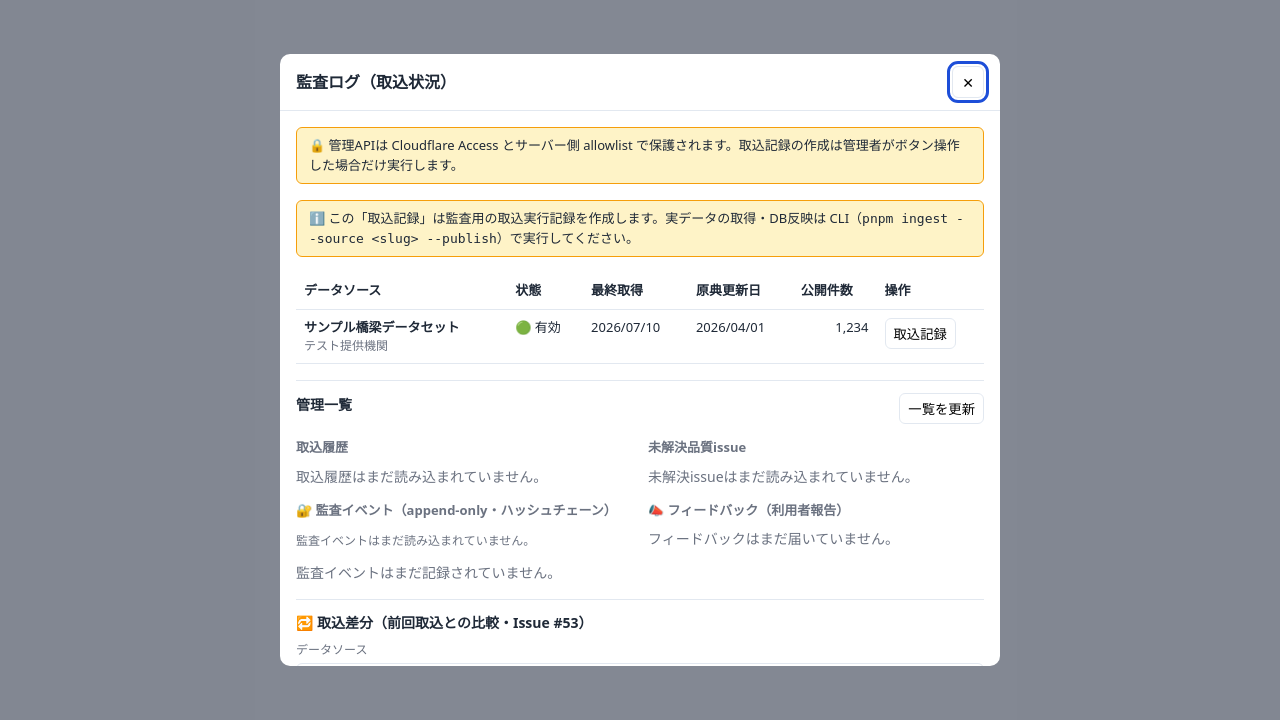
Test: AuditLogDialog › requires a reason before resolving a quality issue
Step 1. Click the button "取込記録" → click(920, 333), box [884,318,956,348]
(page scrolled)
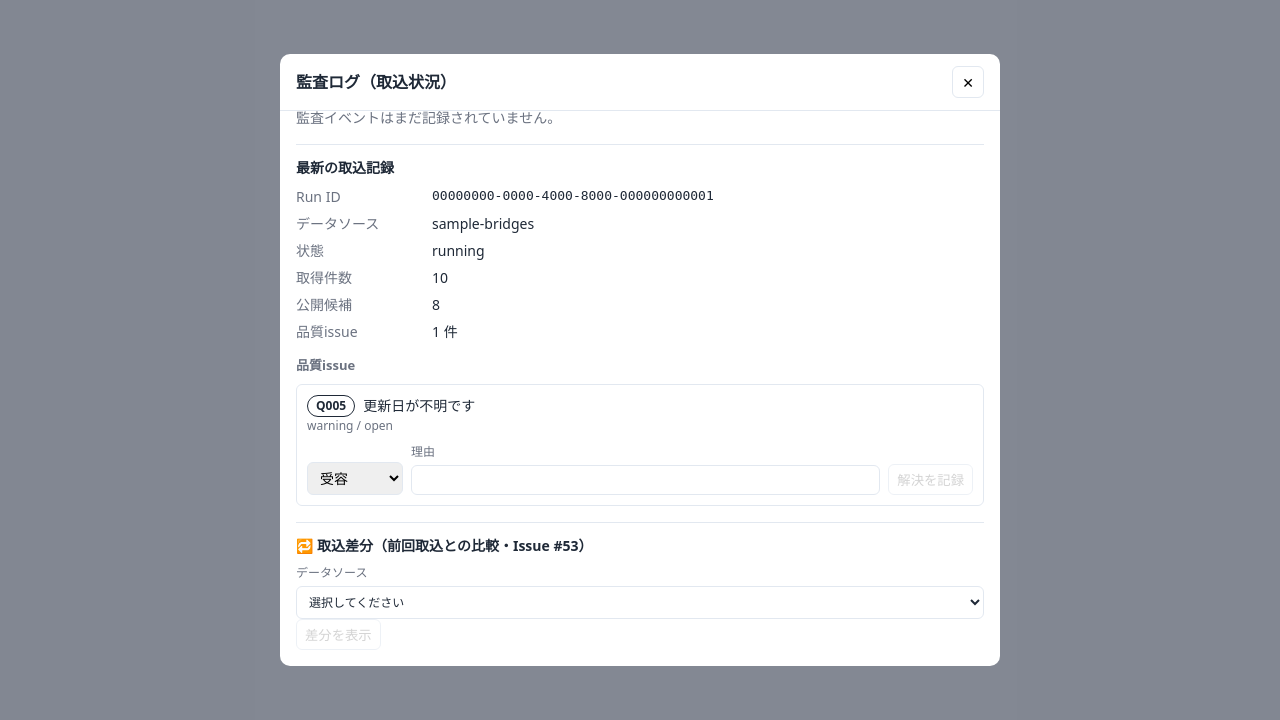
Now the text "更新日が不明です" is shown, box [363,395,475,416]
Now the button "解決を記録" is disabled, box [888,464,973,494]
Step 2. Type "原典で確認済み" into the field labelled "理由" → (646, 480), box [411,464,880,494]
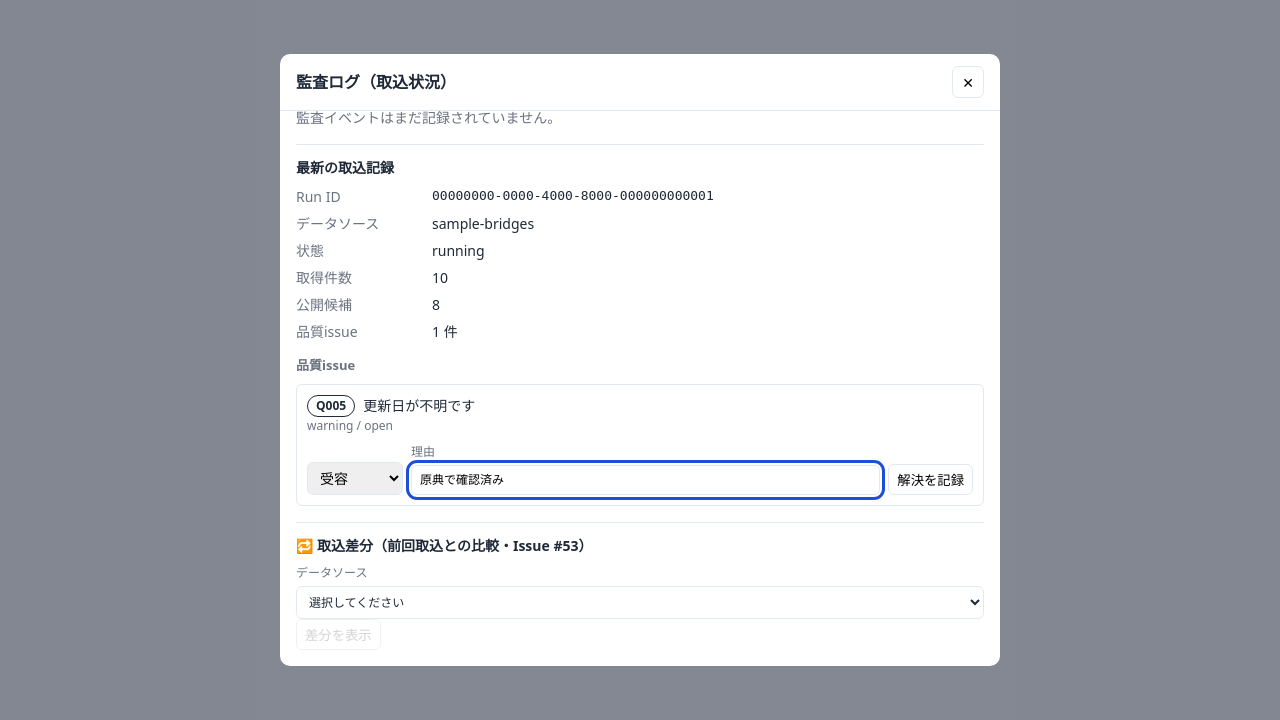
Step 3. Select "受容" in the dropdown named "解決ステータス" → (355, 478), box [307,462,403,494]
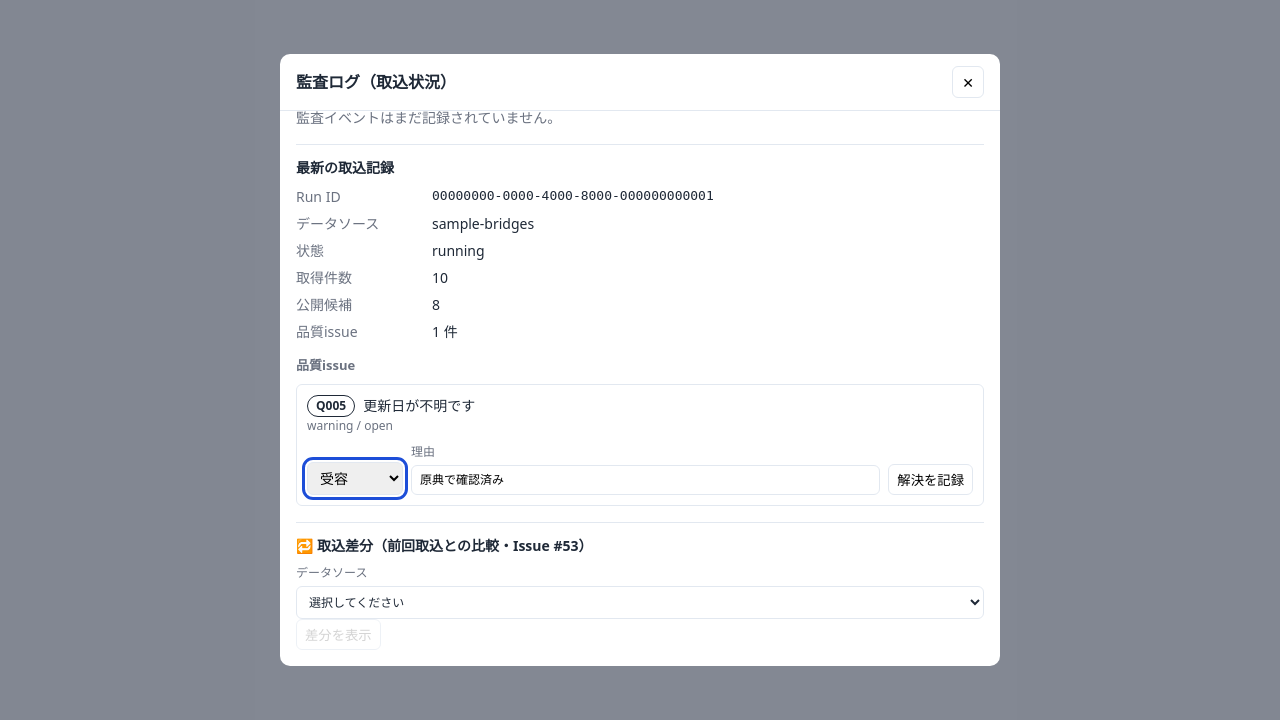
Step 4. Click the button "解決を記録" → click(931, 479), box [888,464,973,494]
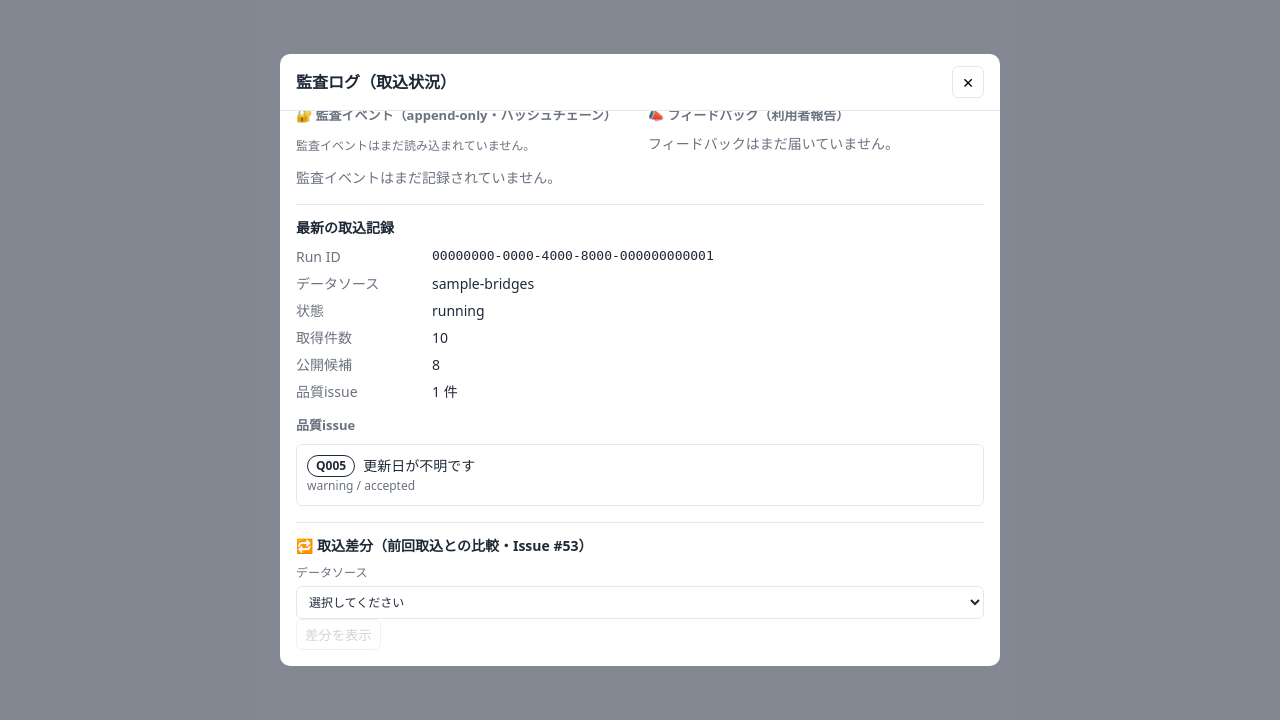
Now the text "warning / accepted" is shown, box [307,476,415,494]
